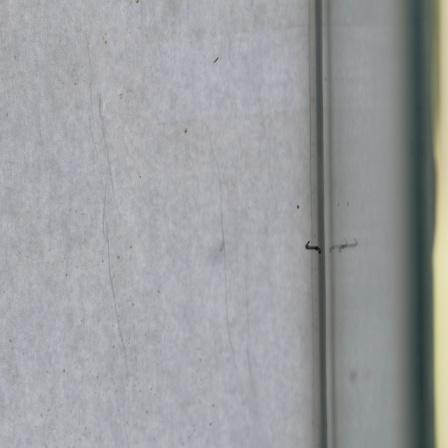Jentik-Nyamuk: (299, 237, 323, 257)
